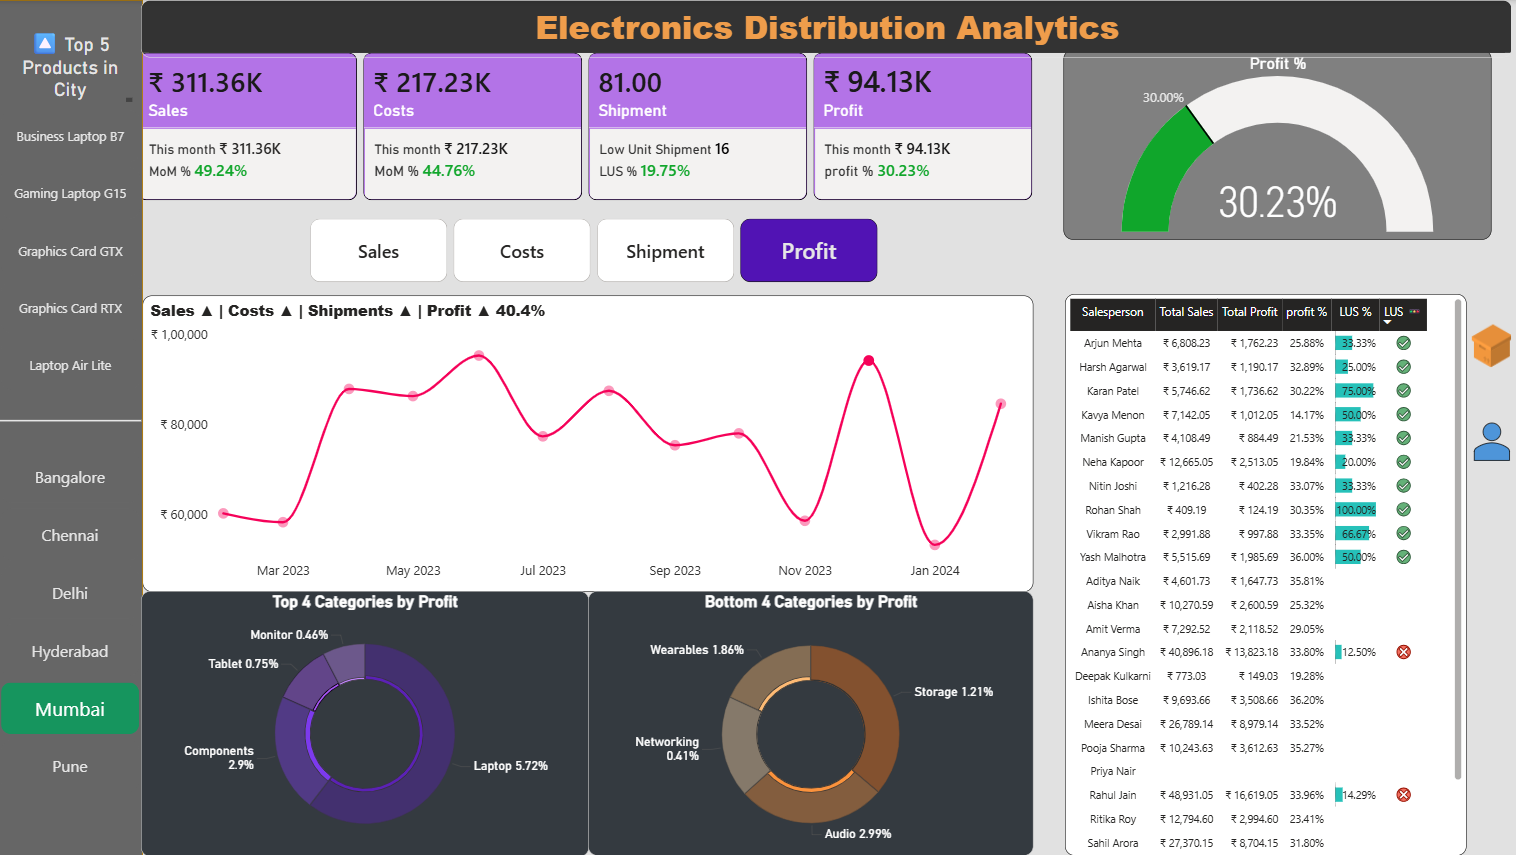

What the dashboard file says about the page in this screenshot:
{"tool":"powerbi","page":{"name":"Page 1","canvas":[1920,1080],"ordinal":0},"visuals":[{"type":"cardVisual","fields":{"Data":["_Measures.Total Sales","_Measures.Total Costs","_Measures.Total Shipment","_Measures.Total Profit"]},"box":[161.4,50,1162.9,220],"z":0},{"type":"lineChart","fields":{"Y":["_Measures.Total Sales"],"Category":["calendar.Start of Month.Variation.Date Hierarchy.Year","calendar.Start of Month.Variation.Date Hierarchy.Quarter","calendar.Start of Month.Variation.Date Hierarchy.Month","calendar.Start of Month.Variation.Date Hierarchy.Day"]},"box":[184,372,1124,374],"z":1000},{"type":"advancedSlicerVisual","fields":{"Values":["Measure selector.Measure selector"]},"box":[390,270,727.5,90],"z":2000},{"type":"shape","box":[0,0,184,1080],"z":3000},{"type":"gauge","title":"Profit %","fields":{"Y":["_Measures.profit %"]},"box":[1346,62,540,240],"z":4000},{"type":"advancedSlicerVisual","fields":{"Values":["locations.Geo"]},"box":[0,564,184,444],"z":5000},{"type":"advancedSlicerVisual","fields":{"Values":["products.Product"]},"box":[0,135,185,362.5],"z":6000},{"type":"shape","box":[0,498,182,66],"z":7000},{"type":"textbox","title":"🔼 Top 5 Products in City","box":[10,36,166,98],"z":8000},{"type":"textbox","title":"Electronics Distribution Analytics","box":[182.5,0,1730,72.5],"z":9000},{"type":"donutChart","title":"Top 4 Categories by Profit ","fields":{"Y":["_Measures.Total Sales"],"Category":["products.Category"]},"box":[182.5,745,565,335],"z":10000},{"type":"donutChart","title":"Bottom 4 Categories by Profit","fields":{"Y":["_Measures.Total Sales"],"Category":["products.Category"]},"box":[746,746,562,334],"z":11000},{"type":"tableEx","title":"Products table","fields":{"Values":["products.Product","locations.Geo","_Measures.Total Profit","_Measures.profit %","_Measures.Profit Target Indicator"]},"box":[1346,372,506,708],"z":12000},{"type":"image","title":"Products image","box":[1853.3,395,66.7,81.7],"z":14000},{"type":"image","title":"Sales image","box":[1853.3,516.7,66.7,81.7],"z":15000}]}

Visuals, with their boxes in screenshot pixels (x1, y1, x2, y2), scaled from the page's 1920x1080 canvas onto the 1516x855 screenshot:
cardVisual - _Measures.Total Sales x _Measures.Total Costs: [127, 40, 1046, 214]
lineChart - _Measures.Total Sales x calendar.Start of Month.Variation.Date Hierarchy.Year: [145, 294, 1033, 591]
advancedSlicerVisual - Measure selector.Measure selector: [308, 214, 882, 285]
shape: [0, 0, 145, 854]
"Profit %" gauge: [1063, 49, 1489, 239]
advancedSlicerVisual - locations.Geo: [0, 446, 145, 798]
advancedSlicerVisual - products.Product: [0, 107, 146, 394]
shape: [0, 394, 144, 446]
"🔼 Top 5 Products in City" textbox: [8, 28, 139, 106]
"Electronics Distribution Analytics" textbox: [144, 0, 1510, 57]
"Top 4 Categories by Profit " donutChart: [144, 590, 590, 854]
"Bottom 4 Categories by Profit" donutChart: [589, 591, 1033, 854]
"Products table" tableEx: [1063, 294, 1462, 854]
"Products image" image: [1463, 313, 1515, 377]
"Sales image" image: [1463, 409, 1515, 474]
